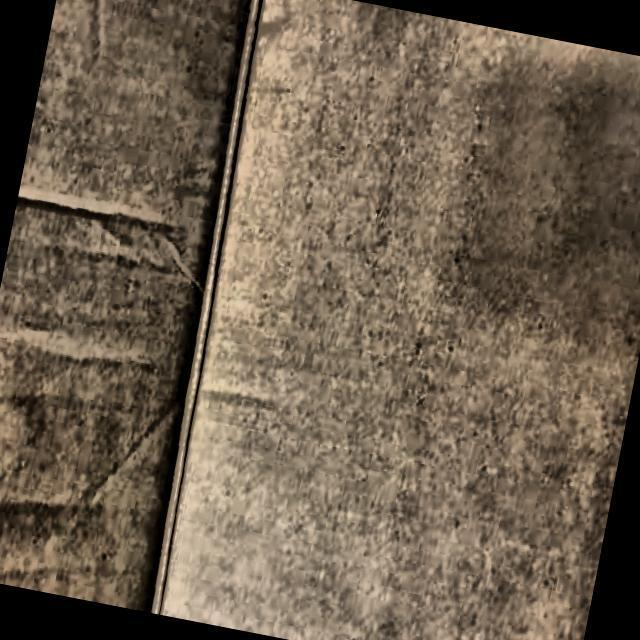cardboard: (0, 0, 279, 614)
